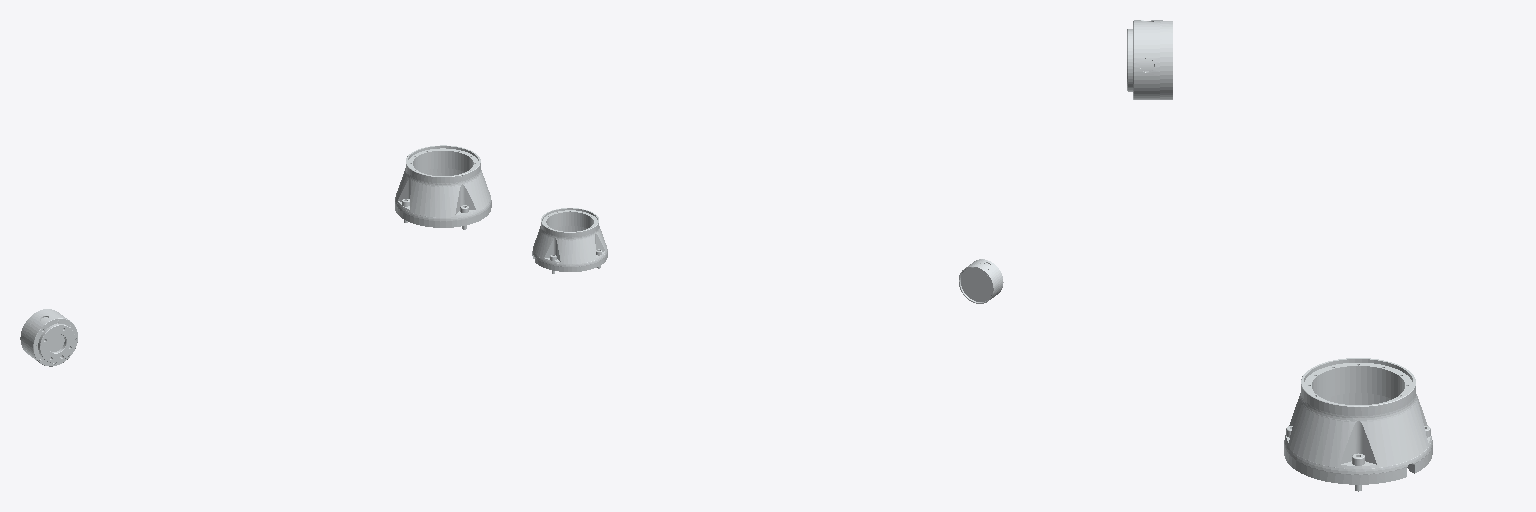
URDF robot description (fr5_robot):
<?xml version="1.0" encoding="utf-8" ?>
<!-- This URDF was automatically created by SolidWorks to URDF Exporter! Originally created by [author] ([email redacted]) 
     Commit Version: 1.5.1-0-g916b5db  Build Version: 1.5.7152.31018
     For more information, please see http://wiki.ros.org/sw_urdf_exporter -->
<robot name="fr5_robot">
    <link name="world" />
    <joint name="world" type="fixed">
        <parent link="world" />
        <child link="base_link" />
    </joint>
    <link name="base_link">
        
<inertial>
            <origin xyz="-0.00044457 0.0004811 0.032592" rpy="0 0 0" />
            <mass value="1.073" />
            <inertia ixx="0.0024567" ixy="-1.5435E-05" ixz="-1.3507E-05" iyy="0.0024575" iyz="1.4421E-05" izz="0.0038879" />
        </inertial>

        <visual>
            <origin xyz="0 0 0" rpy="0 0 0" />
            <geometry>
                <mesh filename="package://fr5_description/meshes/visual/base.dae" />
            </geometry>
            <material name="">
                <color rgba="0.89804 0.91765 0.92941 1" />
            </material>
        </visual>
        <collision>
            <origin xyz="0 0 0" rpy="0 0 0" />
            <geometry>
                <mesh filename="package://fr5_description/meshes/collision/base_link.STL" />
            </geometry>
        </collision>
    </link>
    <link name="shoulder_Link">
        
<inertial>
            <origin xyz="1.3785E-06 -0.0031495 0.14526" rpy="0 0 0" />
            <mass value="4.1676" />
            <inertia ixx="0.010397" ixy="-1.005E-08" ixz="1.6274E-07" iyy="0.010278" iyz="0.00015856" izz="0.0076307" />
        </inertial>

        <visual>
            <origin xyz="0 0 0" rpy="0 0 0" />
            <geometry>
                <mesh filename="package://fr5_description/meshes/visual/shoulder.dae" />
            </geometry>
            <material name="">
                <color rgba="0.89804 0.91765 0.92941 1" />
            </material>
        </visual>
        <collision>
            <origin xyz="0 0 0" rpy="0 0 0" />
            <geometry>
                <mesh filename="package://fr5_description/meshes/collision/shoulder_Link.STL" />
            </geometry>
        </collision>
    </link>
    <joint name="j1" type="revolute">
        <origin xyz="0 0 0" rpy="0 0 0" />
        <parent link="base_link" />
        <child link="shoulder_Link" />
        <axis xyz="0 0 1" />
        <limit lower="-3.0543261" upper="3.0543261" effort="150" velocity="3.15" />
        <calibration rising="0" falling="0" />
        <dynamics damping="0" friction="0" />
        <safety_controller soft_upper_limit="3.0543261" soft_lower_limit="-3.0543261" k_position="100.0" k_velocity="40.0" />
    </joint>
    <link name="upperarm_Link">
        
<inertial>
            <origin xyz="-2.2928E-05 0.33278 0.084237" rpy="0 0 0" />
            <mass value="20.782" />
            <inertia ixx="2.9074" ixy="-0.00023104" ixz="-2.5049E-05" iyy="0.12653" iyz="-0.1479" izz="2.8157" />
        </inertial>

        <visual>
            <origin xyz="0 0 0" rpy="0 0 0" />
            <geometry>
                <mesh filename="package://fr5_description/meshes/visual/upperarm.dae" />
            </geometry>
            <material name="">
                <color rgba="0.89804 0.91765 0.92941 1" />
            </material>
        </visual>
        <collision>
            <origin xyz="0 0 0" rpy="0 0 0" />
            <geometry>
                <mesh filename="package://fr5_description/meshes/collision/upperarm_Link.STL" />
            </geometry>
        </collision>
    </link>
    <joint name="j2" type="revolute">
        <origin xyz="0 0 0.155" rpy="1.570796 -1.570796 0" />
        <parent link="shoulder_Link" />
        <child link="upperarm_Link" />
        <axis xyz="0 0 1" />
        <limit lower="-4.6251225" upper="1.4835298" effort="150" velocity="3.15" />
        <calibration rising="0" falling="0" />
        <dynamics damping="0" friction="0" />
        <safety_controller soft_upper_limit="1.4835298" soft_lower_limit="-4.6251225" k_position="100" k_velocity="40" />
    </joint>
    <link name="forearm_Link">
        
<inertial>
            <origin xyz="0.092224 -2.2928E-05 0.084237" rpy="0 0 0" />
            <mass value="20.782" />
            <inertia ixx="0.12653" ixy="0.00023104" ixz="0.1479" iyy="2.9074" iyz="-2.5049E-05" izz="2.8157" />
        </inertial>

        <visual>
            <origin xyz="0 0 0" rpy="0 0 0" />
            <geometry>
                <mesh filename="package://fr5_description/meshes/visual/forearm.dae" />
            </geometry>
            <material name="">
                <color rgba="0.89804 0.91765 0.92941 1" />
            </material>
        </visual>
        <collision>
            <origin xyz="0 0 0" rpy="0 0 0" />
            <geometry>
                <mesh filename="package://fr5_description/meshes/collision/forearm_Link.STL" />
            </geometry>
        </collision>
    </link>
    <joint name="j3" type="revolute">
        <origin xyz="0 0.425 0" rpy="0 0 -1.570796" />
        <parent link="upperarm_Link" />
        <child link="forearm_Link" />
        <axis xyz="0 0 1" />
        <limit lower="-2.8274333" upper="2.8274333" effort="150" velocity="3.15" />
        <calibration rising="0" falling="0" />
        <dynamics damping="0" friction="0" />
        <safety_controller soft_upper_limit="2.8274333" soft_lower_limit="-2.8274333" k_position="100" k_velocity="40" />
    </joint>
    <link name="wrist1_Link">
        
<inertial>
            <origin xyz="0.48722 -2.2928E-05 0.084237" rpy="0 0 0" />
            <mass value="20.782" />
            <inertia ixx="0.12653" ixy="0.00023104" ixz="0.1479" iyy="2.9074" iyz="-2.5049E-05" izz="2.8157" />
        </inertial>

        <visual>
            <origin xyz="0 0 0" rpy="0 0 0" />
            <geometry>
                <mesh filename="package://fr5_description/meshes/visual/wrist1.dae" />
            </geometry>
            <material name="">
                <color rgba="0.89804 0.91765 0.92941 1" />
            </material>
        </visual>
        <collision>
            <origin xyz="0 0 0" rpy="0 0 0" />
            <geometry>
                <mesh filename="package://fr5_description/meshes/collision/wrist1_Link.STL" />
            </geometry>
        </collision>
    </link>
    <joint name="j4" type="revolute">
        <origin xyz="-0.395 0 0" rpy="0 0 1.570796" />
        <parent link="forearm_Link" />
        <child link="wrist1_Link" />
        <axis xyz="0 0 1" />
        <limit lower="-4.6251225" upper="1.4835298" effort="28" velocity="3.2" />
        <calibration rising="0" falling="0" />
        <dynamics damping="0" friction="0" />
        <safety_controller soft_upper_limit="1.4835298" soft_lower_limit="-4.6251225" k_position="100" k_velocity="40" />
    </joint>
    <link name="wrist2_Link">
        
<inertial>
            <origin xyz="-2.396E-06 0.0045906 0.099342" rpy="0 0 0" />
            <mass value="1.570796" />
            <inertia ixx="0.0022393" ixy="-1.0022E-07" ixz="-3.2115E-08" iyy="0.0013914" iyz="-2.2223E-05" izz="0.0021864" />
        </inertial>

        <visual>
            <origin xyz="0 0 0" rpy="0 0 0" />
            <geometry>
                <mesh filename="package://fr5_description/meshes/visual/wrist2.dae" />
            </geometry>
            <material name="">
                <color rgba="0.89804 0.91765 0.92941 1" />
            </material>
        </visual>
        <collision>
            <origin xyz="0 0 0" rpy="0 0 0" />
            <geometry>
                <mesh filename="package://fr5_description/meshes/collision/wrist2_Link.STL" />
            </geometry>
        </collision>
    </link>
    <joint name="j5" type="revolute">
        <origin xyz="0 0 0.13" rpy="1.570796 0 -1.570796" />
        <parent link="wrist1_Link" />
        <child link="wrist2_Link" />
        <axis xyz="0 0 1" />
        <limit lower="-3.0543261" upper="3.0543261" effort="28" velocity="3.2" />
        <calibration rising="0" falling="0" />
        <dynamics damping="0" friction="0" />
        <safety_controller soft_upper_limit="3.0543261" soft_lower_limit="-3.0543261" k_position="100" k_velocity="40" />
    </joint>
    <link name="wrist3_Link">
        
<inertial>
            <origin xyz="5.8427E-06 7.5807E-05 0.079126" rpy="0 0 0" />
            <mass value="0.52527" />
            <inertia ixx="0.00027801" ixy="-3.5346E-07" ixz="-1.7431E-07" iyy="0.00027736" iyz="-7.5888E-08" izz="0.00041582" />
        </inertial>

        <visual>
            <origin xyz="0 0 0" rpy="0 0 0" />
            <geometry>
                <mesh filename="package://fr5_description/meshes/visual/wrist3.dae" />
            </geometry>
            <material name="">
                <color rgba="0.89804 0.91765 0.92941 1" />
            </material>
        </visual>
        <collision>
            <origin xyz="0 0 0" rpy="0 0 0" />
            <geometry>
                <mesh filename="package://fr5_description/meshes/collision/wrist3_Link.STL" />
            </geometry>
        </collision>
    </link>
    <joint name="j6" type="revolute">
        <origin xyz="0 0 0.102" rpy="-1.570796 2.268928 0" />
        <parent link="wrist2_Link" />
        <child link="wrist3_Link" />
        <axis xyz="0 0 1" />
        <limit lower="-3.0543261" upper="3.0543261" effort="28" velocity="3.2" />
        <calibration rising="0" falling="0" />
        <dynamics damping="0" friction="0" />
        <safety_controller soft_upper_limit="3.0543261" soft_lower_limit="-3.0543261" k_position="100" k_velocity="40" />
    </joint>
    
<transmission name="trans_j1">
        <type>transmission_interface/SimpleTransmission</type>
        <joint name="j1">
            <hardwareInterface>hardware_interface/PositionJointInterface</hardwareInterface>
        </joint>
        <actuator name="j1_motor">
            <hardwareInterface>hardware_interface/PositionJointInterface</hardwareInterface>
            <mechanicalReduction>1</mechanicalReduction>
        </actuator>
    </transmission>
    <transmission name="trans_j2">
        <type>transmission_interface/SimpleTransmission</type>
        <joint name="j2">
            <hardwareInterface>hardware_interface/PositionJointInterface</hardwareInterface>
        </joint>
        <actuator name="j2_motor">
            <hardwareInterface>hardware_interface/PositionJointInterface</hardwareInterface>
            <mechanicalReduction>1</mechanicalReduction>
        </actuator>
    </transmission>
    <transmission name="trans_j3">
        <type>transmission_interface/SimpleTransmission</type>
        <joint name="j3">
            <hardwareInterface>hardware_interface/PositionJointInterface</hardwareInterface>
        </joint>
        <actuator name="j3_motor">
            <hardwareInterface>hardware_interface/PositionJointInterface</hardwareInterface>
            <mechanicalReduction>1</mechanicalReduction>
        </actuator>
    </transmission>
    <transmission name="trans_j4">
        <type>transmission_interface/SimpleTransmission</type>
        <joint name="j4">
            <hardwareInterface>hardware_interface/PositionJointInterface</hardwareInterface>
        </joint>
        <actuator name="j4_motor">
            <hardwareInterface>hardware_interface/PositionJointInterface</hardwareInterface>
            <mechanicalReduction>1</mechanicalReduction>
        </actuator>
    </transmission>
    <transmission name="trans_j5">
        <type>transmission_interface/SimpleTransmission</type>
        <joint name="j5">
            <hardwareInterface>hardware_interface/PositionJointInterface</hardwareInterface>
        </joint>
        <actuator name="j5_motor">
            <hardwareInterface>hardware_interface/PositionJointInterface</hardwareInterface>
            <mechanicalReduction>1</mechanicalReduction>
        </actuator>
    </transmission>
    <transmission name="trans_j6">
        <type>transmission_interface/SimpleTransmission</type>
        <joint name="j6">
            <hardwareInterface>hardware_interface/PositionJointInterface</hardwareInterface>
        </joint>
        <actuator name="j6_motor">
            <hardwareInterface>hardware_interface/PositionJointInterface</hardwareInterface>
            <mechanicalReduction>1</mechanicalReduction>
        </actuator>
    </transmission>
    <gazebo>
        <plugin name="gazebo_ros_control" filename="libgazebo_ros_control.so">
            <robotNamespace>/fr5_arm</robotNamespace>
            <robotSimType>gazebo_ros_control/DefaultRobotHWSim</robotSimType>
        </plugin>
    </gazebo>
</robot>

--- Facts derived from the render (not from the file) ---
Views: 3 orthographic renders of the robot side by side, from view 1: azimuth 30°, elevation 25°; view 2: azimuth 150°, elevation 25°; view 3: azimuth 270°, elevation 25°.
Robot: fr5_robot — 8 links, 7 joints (6 revolute, 1 fixed); root link world; default pose: all joints at 0.
Links seen in each view (by area): view 1: base_link, wrist3_Link; view 2: base_link, wrist3_Link; view 3: base_link, wrist3_Link.
Link boxes in pixels (<box>): base_link: <box>395,145,491,229</box>; wrist3_Link: <box>20,309,77,366</box>; base_link: <box>532,208,607,273</box>; wrist3_Link: <box>959,259,1003,303</box>; base_link: <box>1284,358,1432,491</box>; wrist3_Link: <box>1127,20,1172,99</box>.
Bounding box of the posed robot: 0.9344 × 0.3064 × 0.1029 m (x, y, z).
Meshes: 7 distinct files referenced, 2 mesh visuals loaded (2 Collada DAE); not drawn: 5 (reference not matched to a file when rendering).